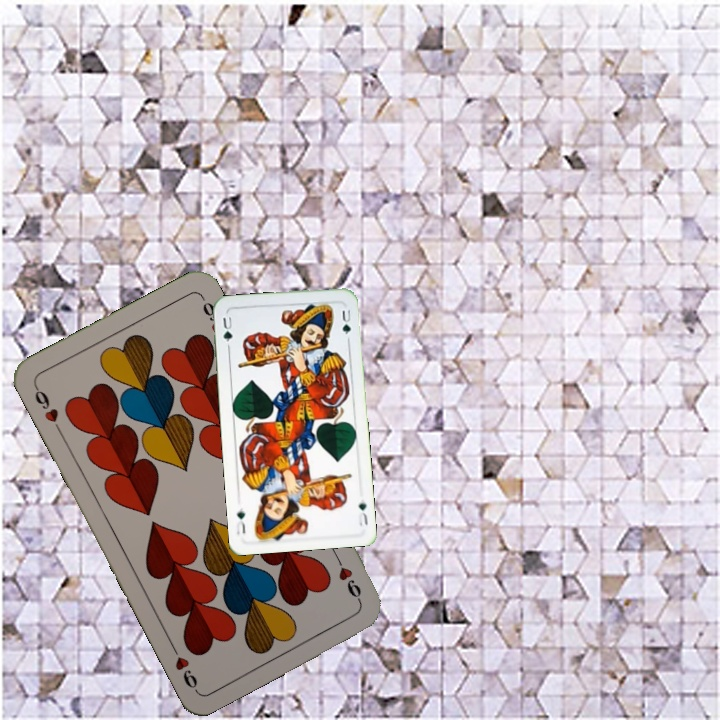GU: (353, 497, 370, 528), (219, 313, 235, 344)
H9: (30, 381, 64, 436), (330, 550, 364, 605)
